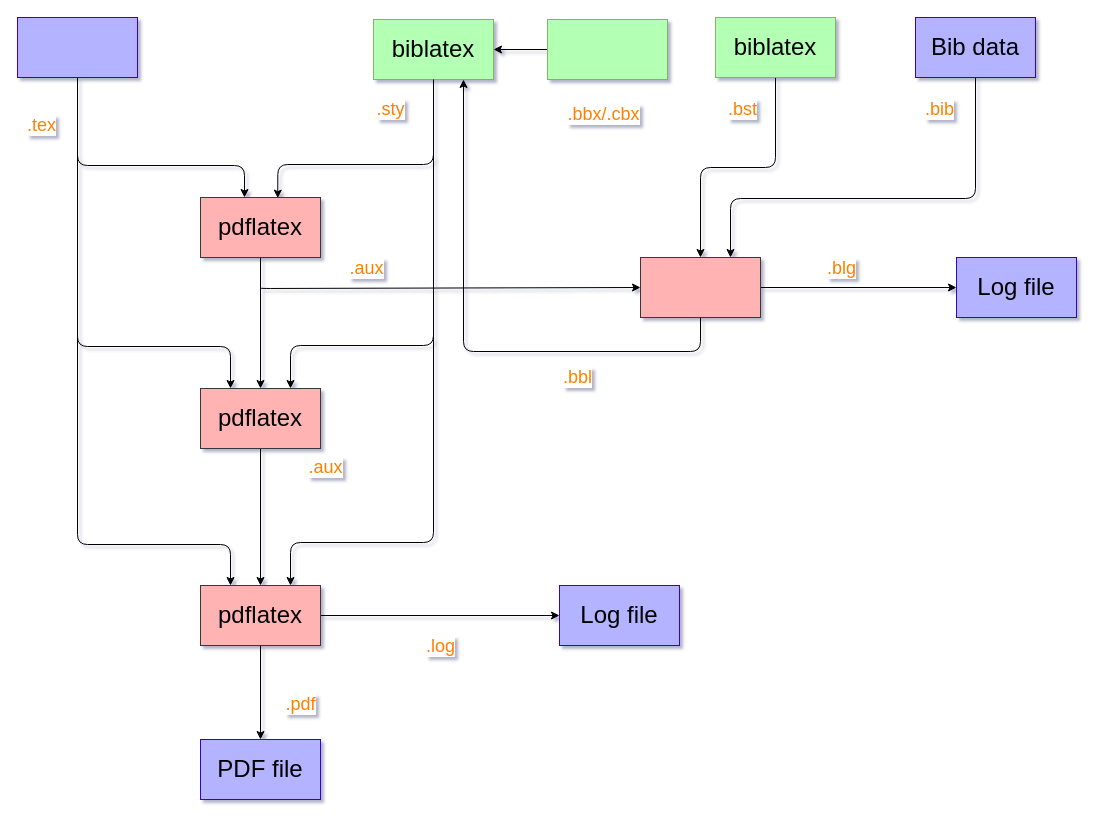
Some shapes in this 1100 by 823 pixel diagram are drawn without their labels. Here are the shapes that lost their labels. From the top down, the box of each, then its label:
(16, 16, 138, 78): source
(546, 18, 668, 80): style
(640, 256, 760, 318): bibtex
